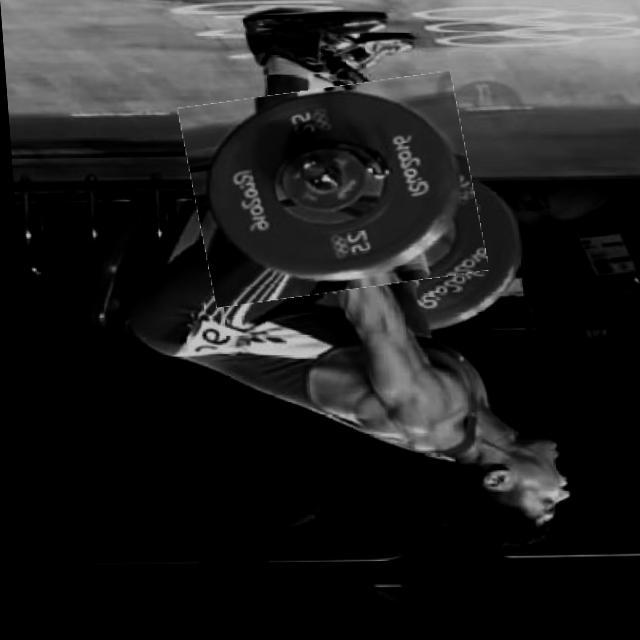barbell: (181, 81, 481, 302)
